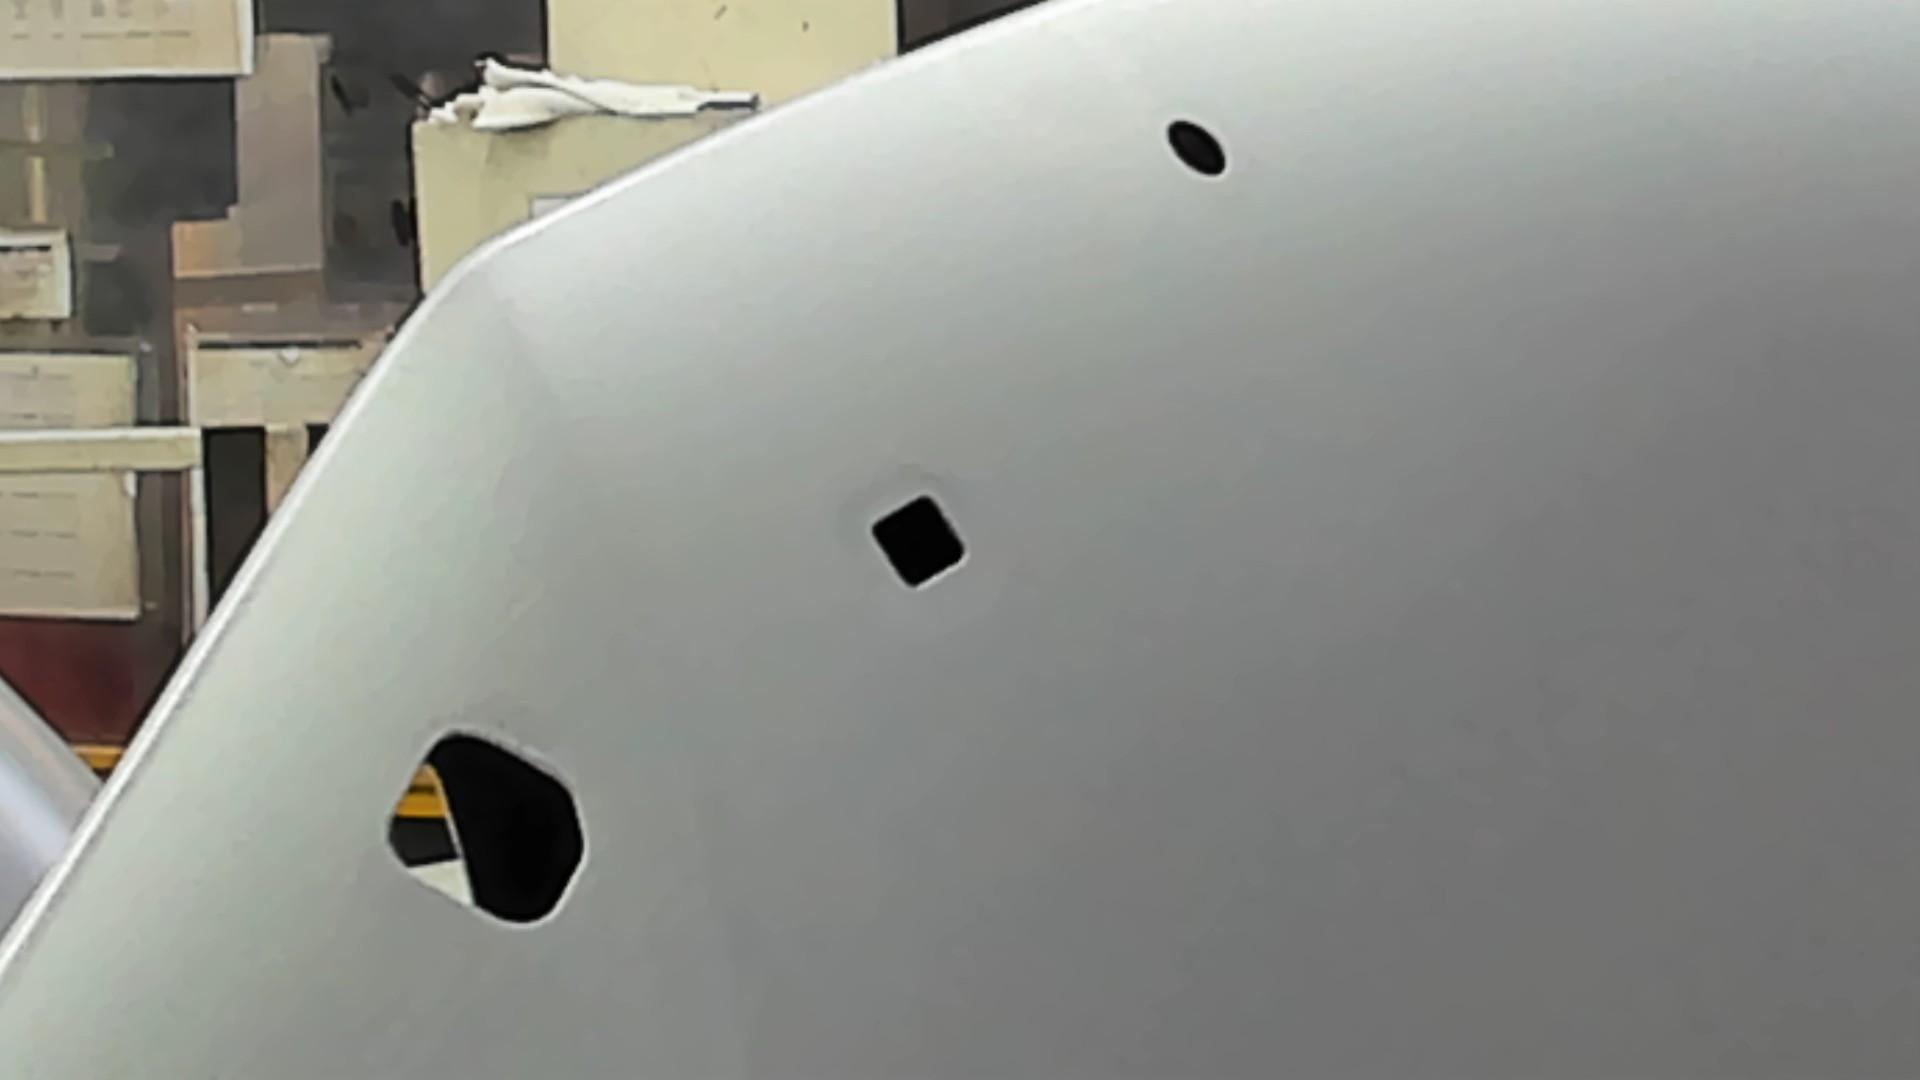chico: (1160, 113, 1232, 179)
grande: (380, 723, 589, 934)
mediano: (864, 491, 971, 600)
